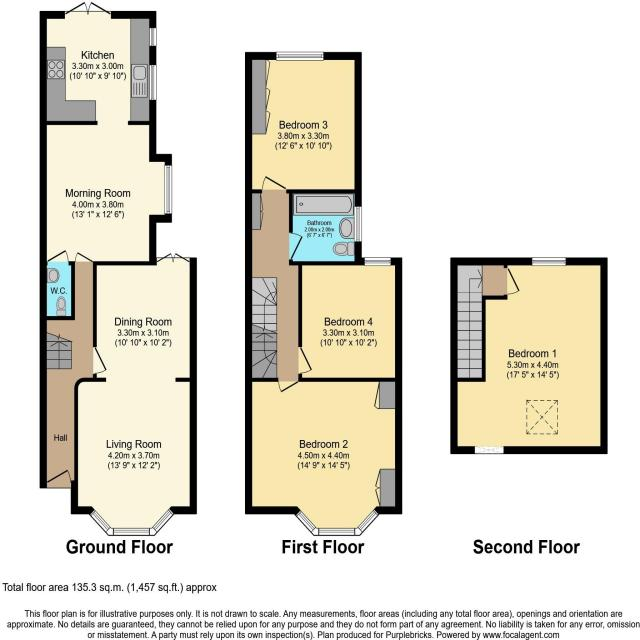DOOR: (45, 468, 72, 488), (504, 266, 521, 296), (261, 175, 288, 193), (289, 232, 304, 261), (298, 346, 313, 375), (93, 346, 108, 375), (47, 249, 70, 266), (277, 377, 299, 394), (74, 251, 94, 265)
DOUBLE DOOR: (62, 1, 114, 20)
ROOM: (39, 1, 172, 266), (74, 252, 197, 537), (450, 257, 608, 454), (245, 378, 403, 537), (245, 52, 362, 194), (298, 257, 402, 382)
WINDOW: (89, 508, 175, 536), (295, 509, 380, 536), (275, 51, 324, 62), (163, 164, 173, 215), (531, 257, 567, 267), (354, 206, 362, 243), (149, 64, 157, 101), (364, 257, 391, 266), (149, 27, 157, 47)
